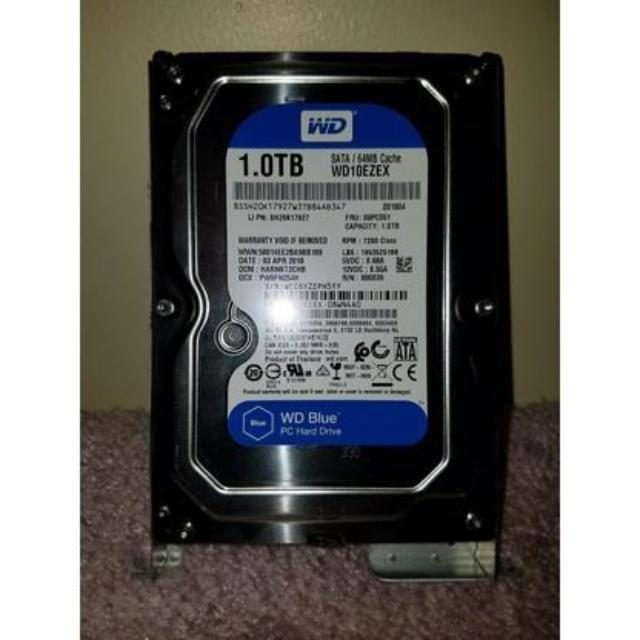DISK: (144, 53, 510, 544)
